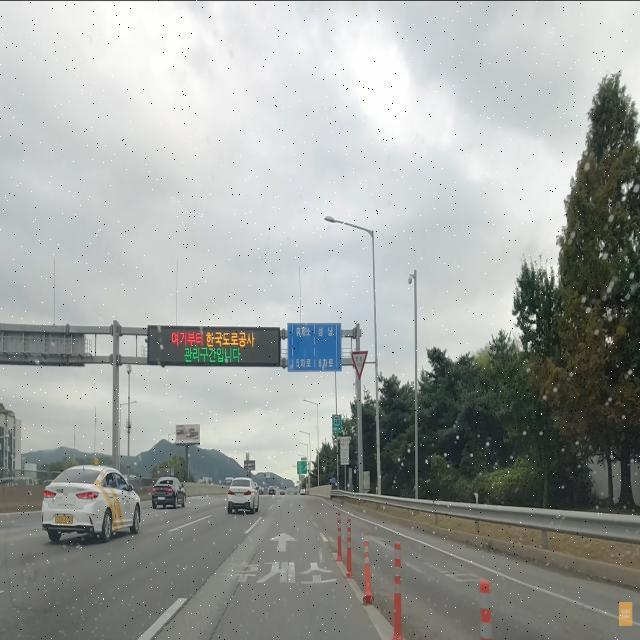forward: (224, 528, 339, 560)
